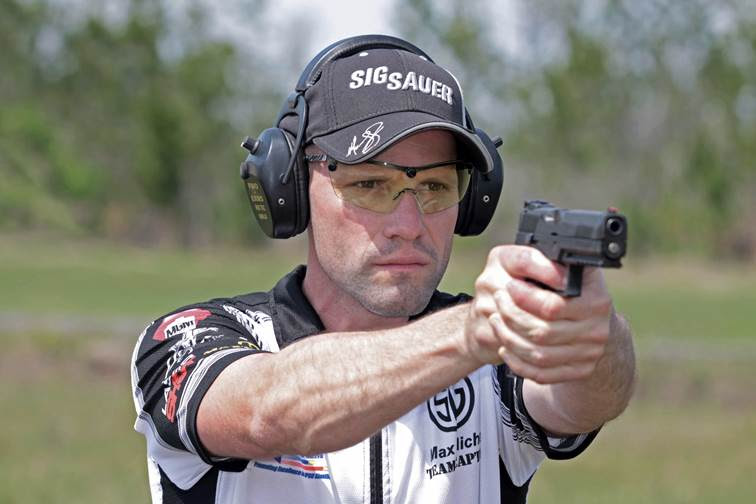gun: (511, 198, 632, 304)
